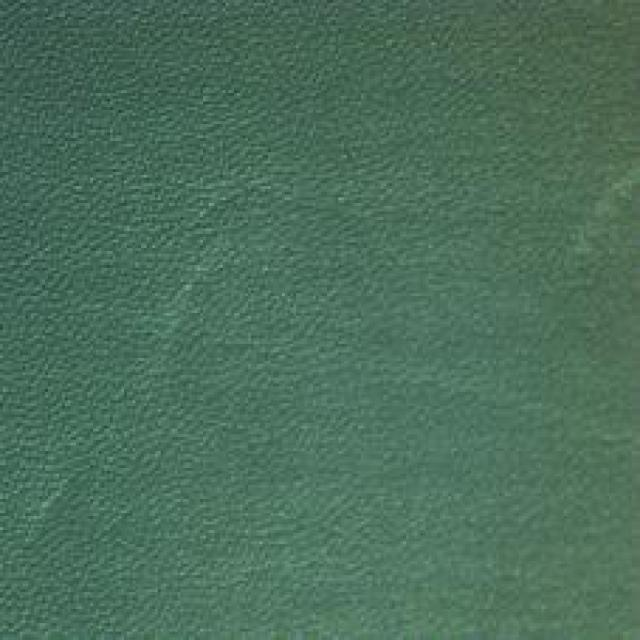Growth Marks: (432, 336, 611, 483), (139, 181, 254, 372), (15, 464, 137, 549)
